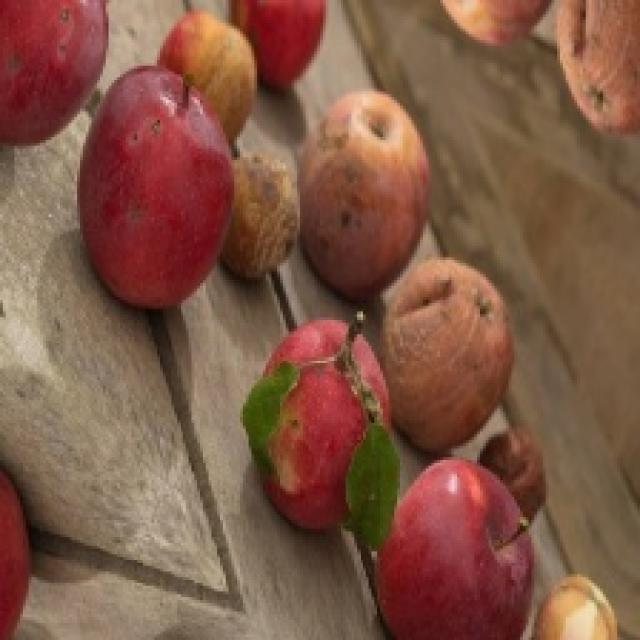rotten_apple: (301, 94, 426, 291), (397, 262, 513, 447), (550, 0, 640, 136), (232, 153, 298, 282), (494, 433, 546, 513)
